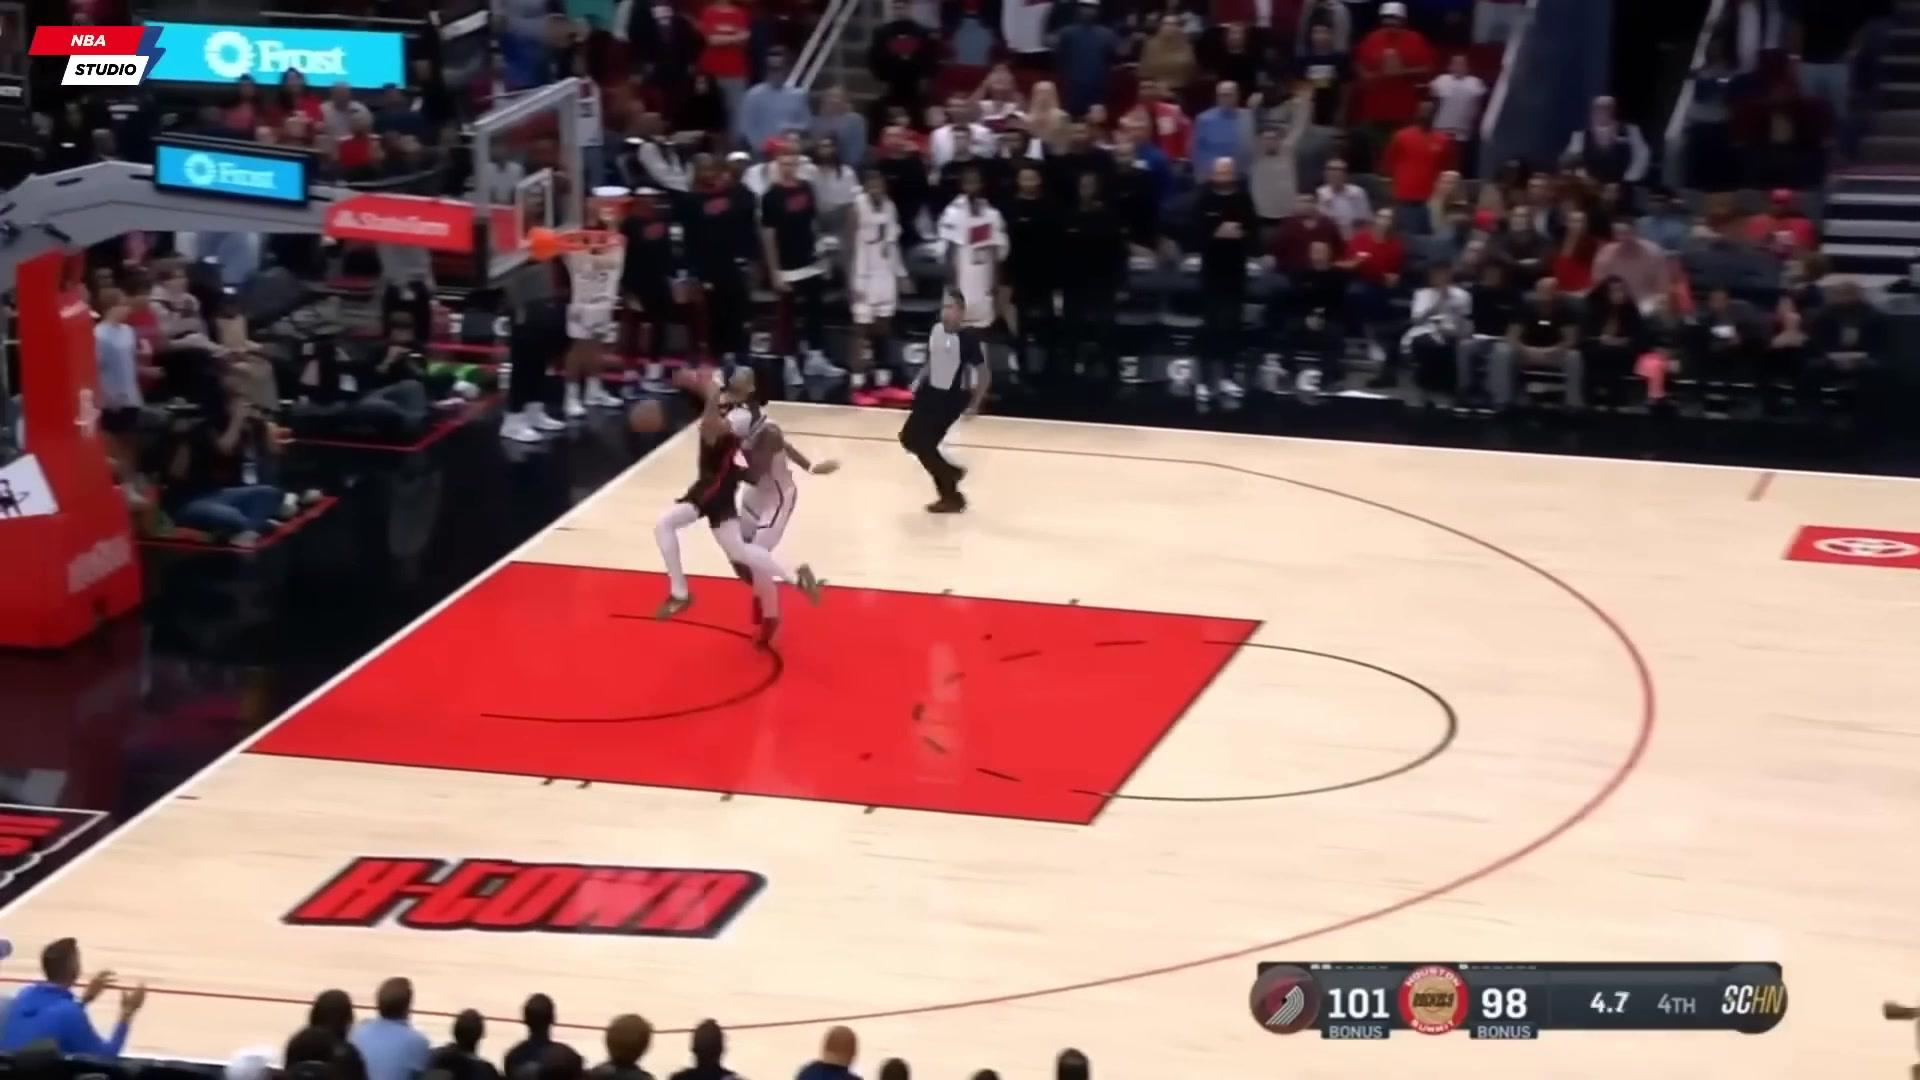foul: (624, 345, 848, 665)
